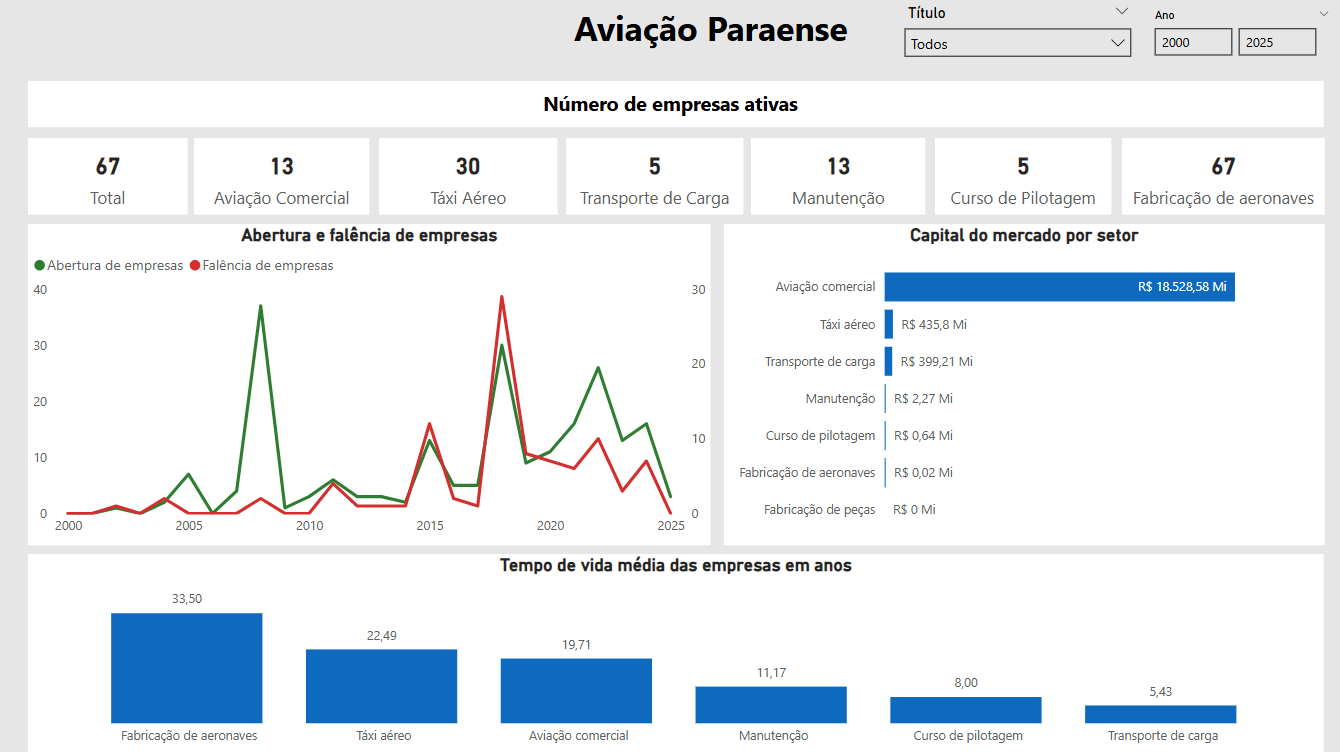

What the dashboard file says about the page in this screenshot:
{"tool":"powerbi","page":{"name":"Página 1","canvas":[1280,720],"ordinal":0},"visuals":[{"type":"shape","box":[28,78,1234,44],"z":0},{"type":"lineChart","title":"Abertura e falência de empresas","fields":{"Category":["Calendario.Data.Variation.Hierarquia de datas.Ano"],"Y2":["medidas.falencia_empresa"],"Y":["medidas.abertura_empresa"]},"box":[28,214,650,306],"z":1000},{"type":"slicer","fields":{"Values":["dCNAE.Título"]},"box":[852,0,236,68],"z":2000},{"type":"slicer","fields":{"Values":["Calendario.Data.Variation.Hierarquia de datas.Ano"]},"box":[1088,4,192,62],"z":3000},{"type":"clusteredBarChart","title":"Capital do mercado por setor","fields":{"Y":["medidas.capital_mercado"],"Category":["dCNAE_principal.Título"]},"box":[690,214,572,306],"z":4000},{"type":"textbox","box":[463,0,430,68],"z":5000},{"type":"columnChart","title":"Tempo de vida média das empresas em anos","fields":{"Y":["medidas.vida_media"],"Category":["dCNAE_principal.Título"]},"box":[27.8,528.8,1234.4,191.2],"z":6000},{"type":"textbox","box":[504,82,271,36],"z":7000},{"type":"card","fields":{"Values":["medidas.Total"]},"box":[27.8,132,151.7,72.7],"z":8000},{"type":"card","fields":{"Values":["medidas.empresas_transporte_regular"]},"box":[185.8,132,167,72.7],"z":9000},{"type":"card","fields":{"Values":["medidas.empreas_transporte_nao_regular"]},"box":[361.8,132,169.7,72.7],"z":10000},{"type":"card","fields":{"Values":["medidas.empresas_transporte_de_carga"]},"box":[539.6,132,168.8,72.7],"z":11000},{"type":"card","fields":{"Values":["medidas.empresas_manutencao"]},"box":[716.4,132,166.1,72.7],"z":12000},{"type":"card","fields":{"Values":["medidas.empresas_pilotagem"]},"box":[891.5,132,167.9,72.7],"z":13000},{"type":"card","fields":{"Values":["medidas.Total"]},"box":[1069.2,132,193,72.7],"z":14000}]}

Visuals, with their boxes in screenshot pixels (x1, y1, x2, y2), scaled from the page's 1280x720 canvas onto the 1340x752 screenshot:
shape: 29/81/1321/127
"Abertura e falência de empresas" lineChart: 29/224/710/543
slicer - dCNAE.Título: 892/0/1139/71
slicer - Calendario.Data.Variation.Hierarquia de datas.Ano: 1139/4/1339/69
"Capital do mercado por setor" clusteredBarChart: 722/224/1321/543
textbox: 485/0/935/71
"Tempo de vida média das empresas em anos" columnChart: 29/552/1321/751
textbox: 528/86/811/123
card - medidas.Total: 29/138/188/214
card - medidas.empresas_transporte_regular: 195/138/369/214
card - medidas.empreas_transporte_nao_regular: 379/138/556/214
card - medidas.empresas_transporte_de_carga: 565/138/742/214
card - medidas.empresas_manutencao: 750/138/924/214
card - medidas.empresas_pilotagem: 933/138/1109/214
card - medidas.Total: 1119/138/1321/214
